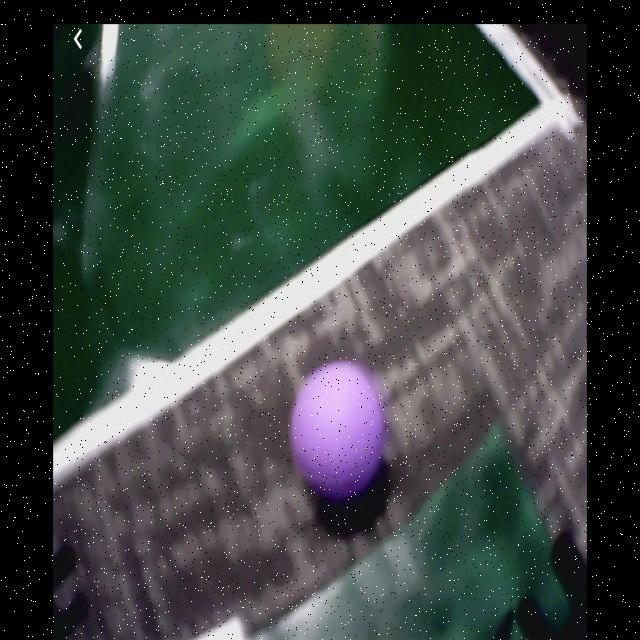ball: (290, 365, 384, 498)
